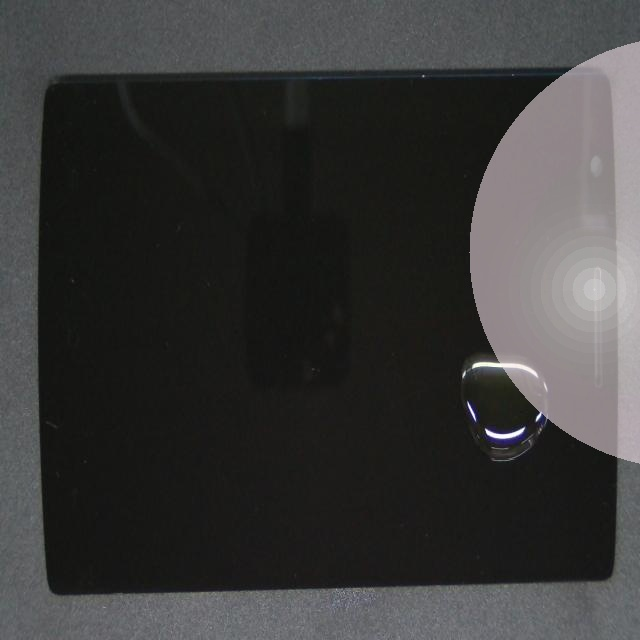oil: (229, 183, 640, 551)
